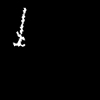double_crochet: (14, 8, 25, 45)
